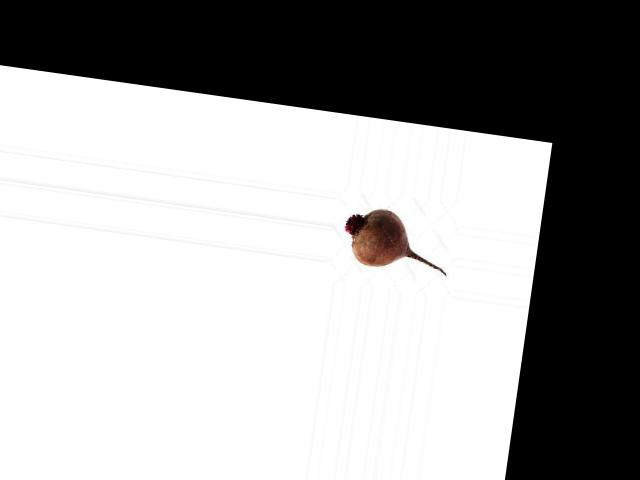beet: (340, 203, 454, 276)
